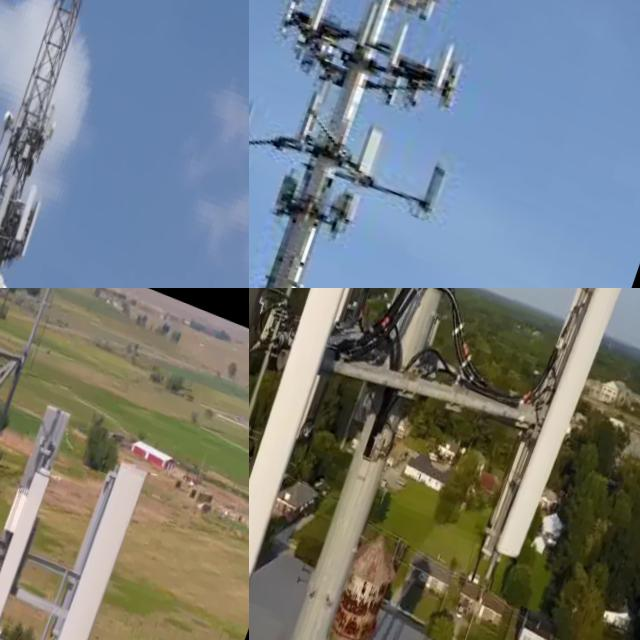GSM Antenna: (249, 288, 401, 599), (485, 288, 640, 576), (477, 288, 601, 568), (18, 443, 151, 640), (249, 288, 348, 505), (39, 449, 125, 640), (351, 288, 458, 411), (0, 446, 59, 640), (7, 173, 43, 249), (410, 153, 457, 211), (14, 185, 49, 261), (347, 0, 389, 57), (381, 11, 414, 74), (355, 117, 388, 174), (428, 35, 456, 86), (301, 0, 336, 28)
Microwave Antenna: (0, 99, 16, 133), (42, 111, 60, 139), (0, 278, 10, 288)
